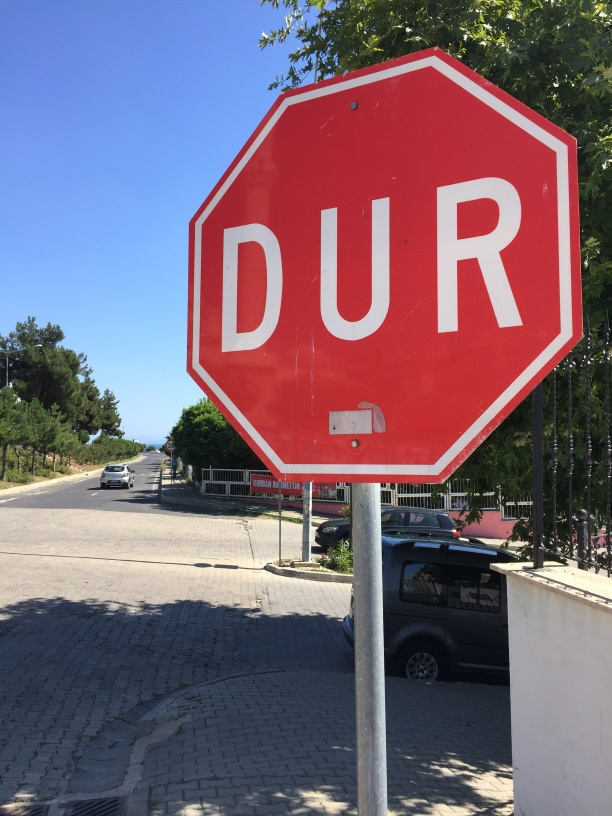arac_dur_isareti: (170, 97, 570, 524)
